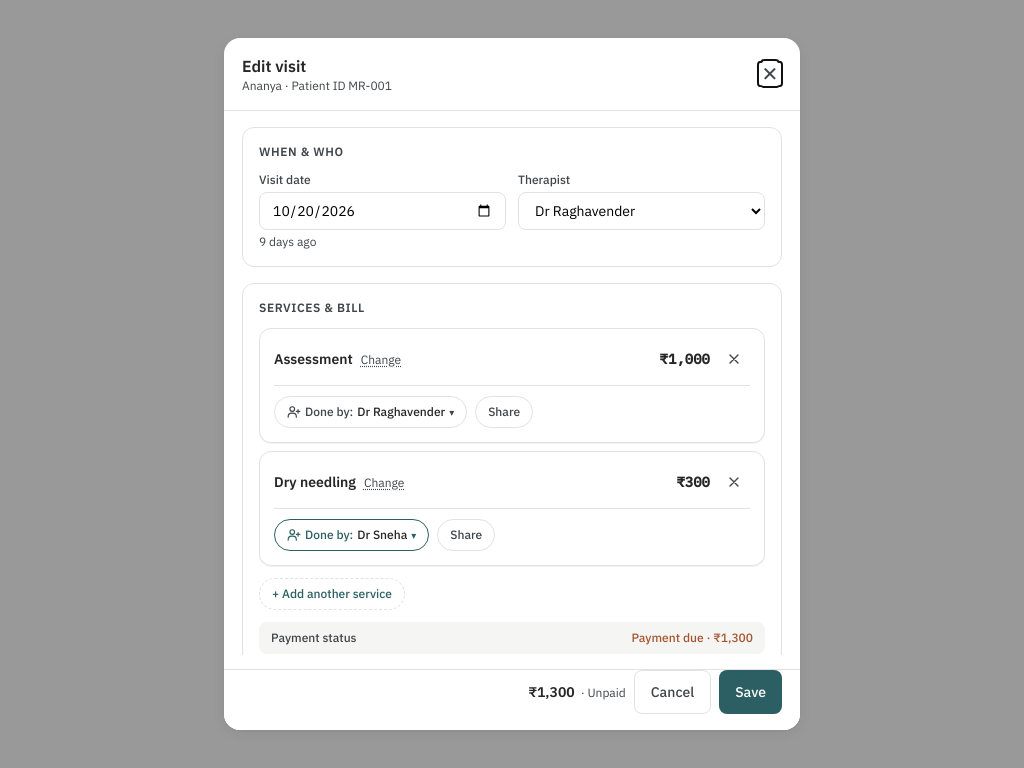
EditVisitModal › displays error note inside the dialog when save fails
Click the button "Save". click: [751, 692]
box: x1=719 y1=670 x2=782 y2=714
(page scrolled)
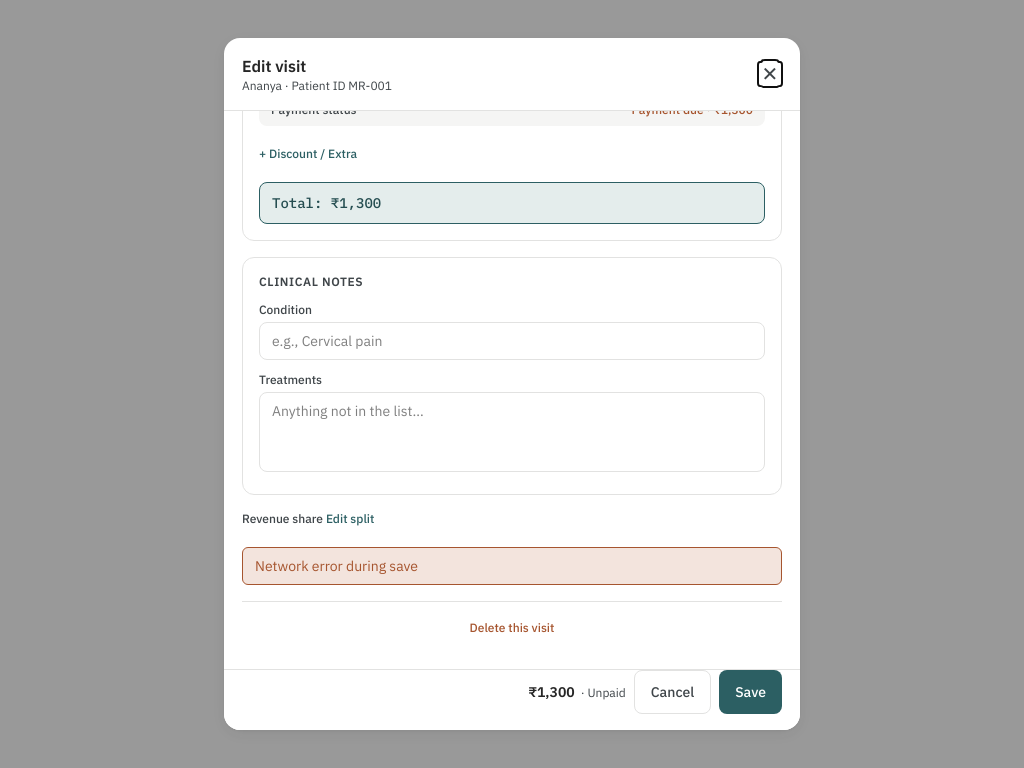
Result: the text "Network error during save" is shown at x1=242 y1=547 x2=782 y2=585
